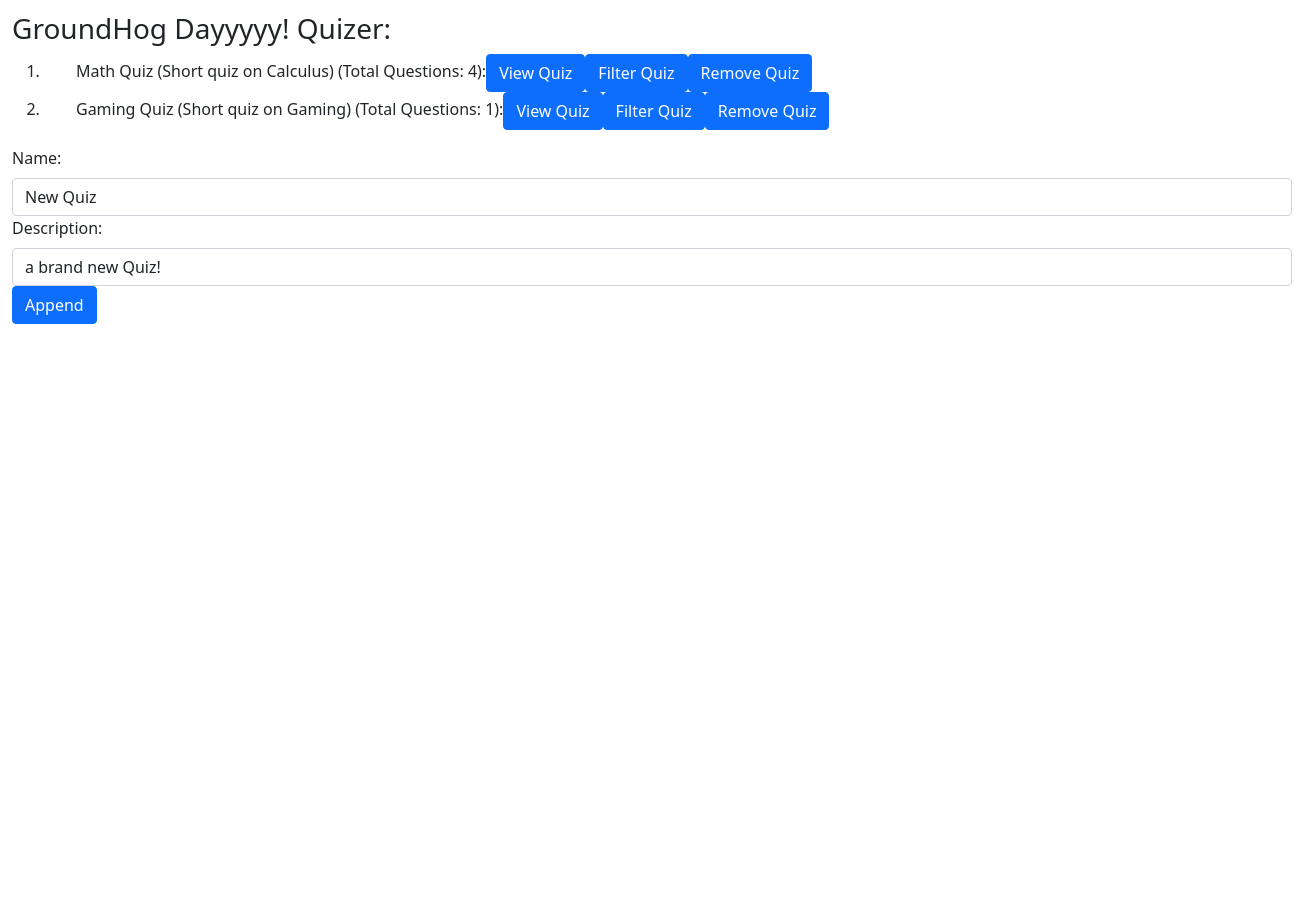
Test: Questions Tests › You can move up the question in array.
This screenshot has width=1304, height=902.
Click the button with test id "view-quiz-button" in the row of "Short quiz on Calculus" at coordinates (536, 73), box [486,54,585,92]
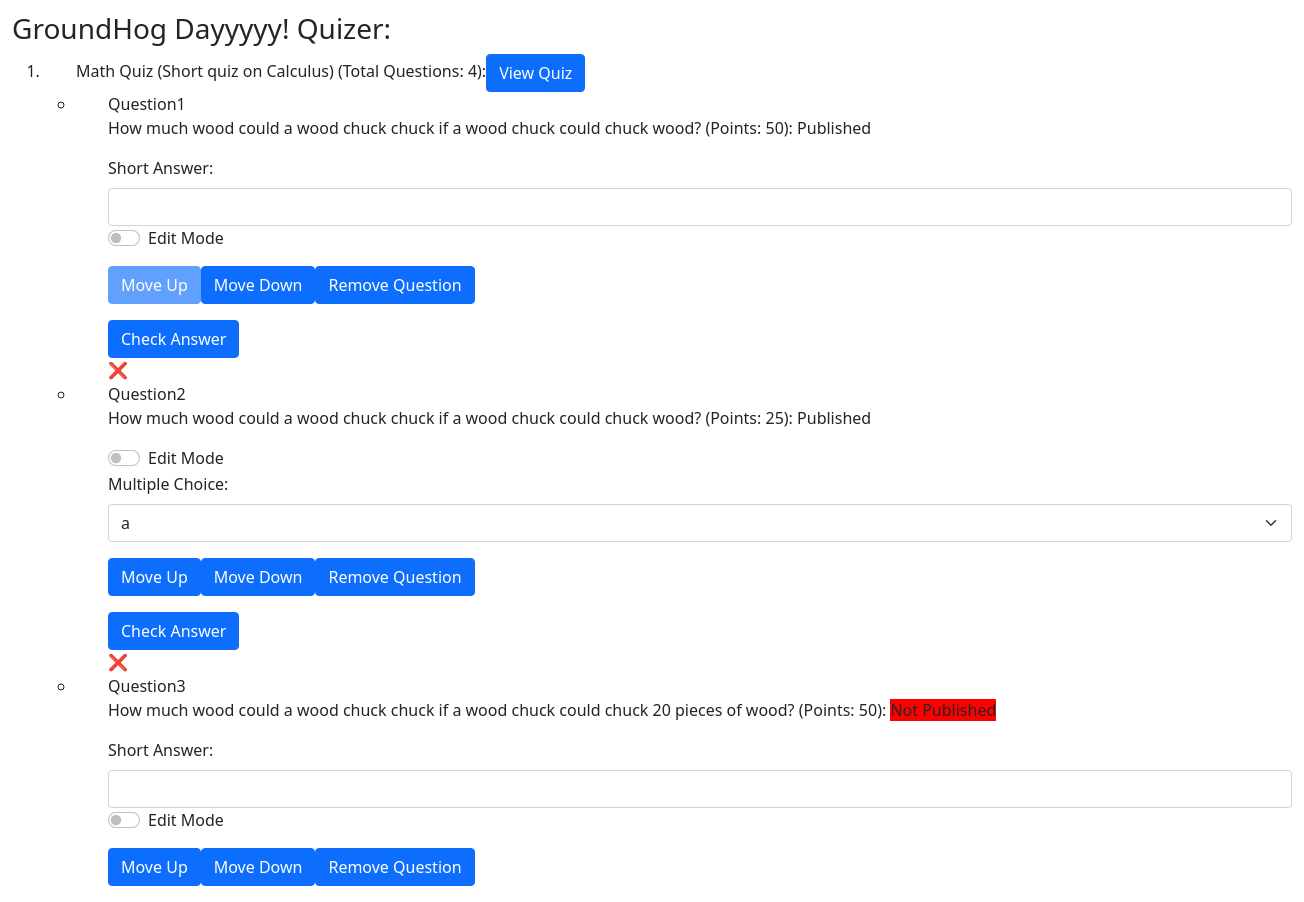
Click the button with test id "question-moveup-button" below "Question2" at coordinates (154, 577), box [108,558,201,596]
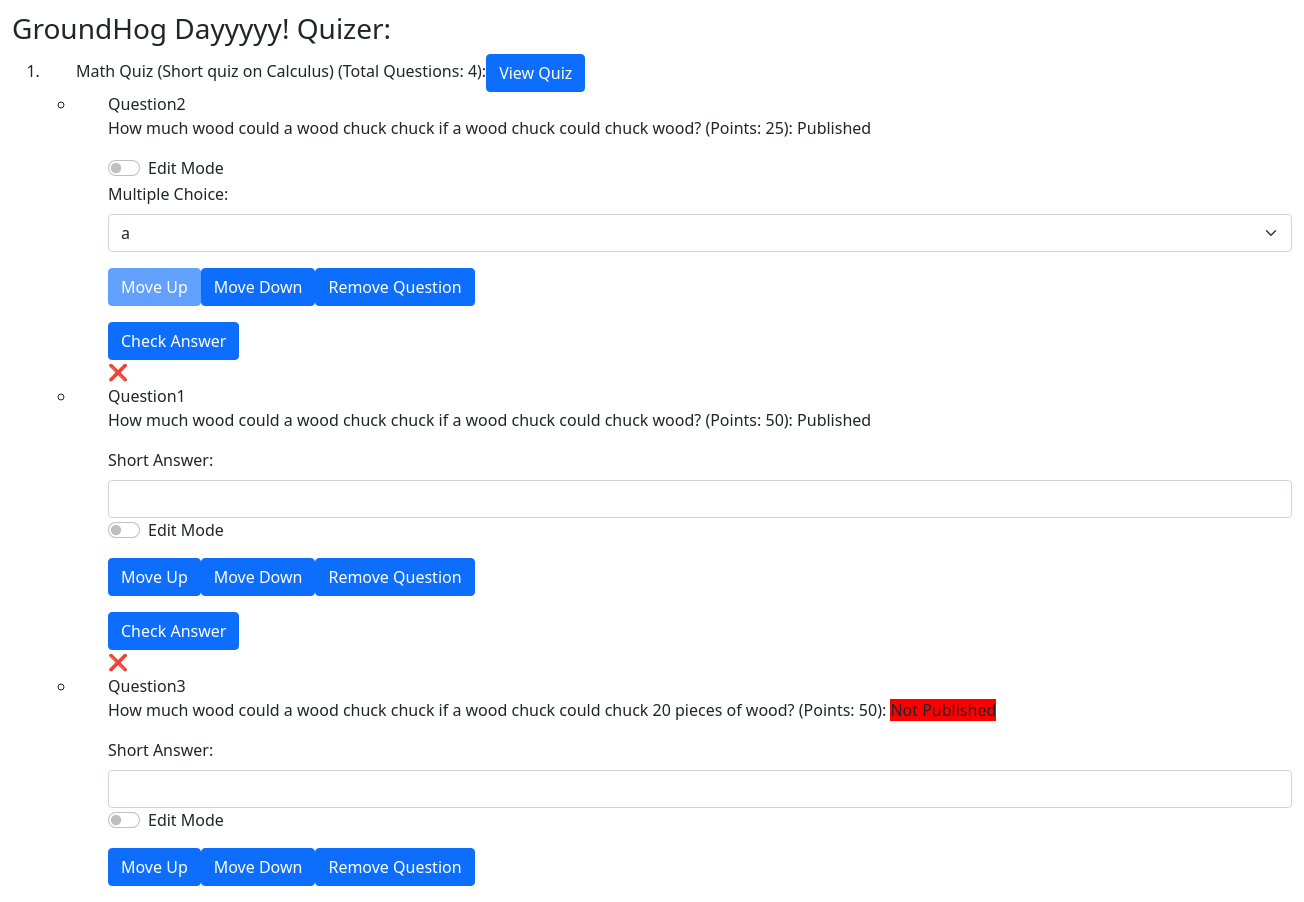
Now the button with test id "question-moveup-button" below "Question2" is disabled, box [108,268,201,306]
